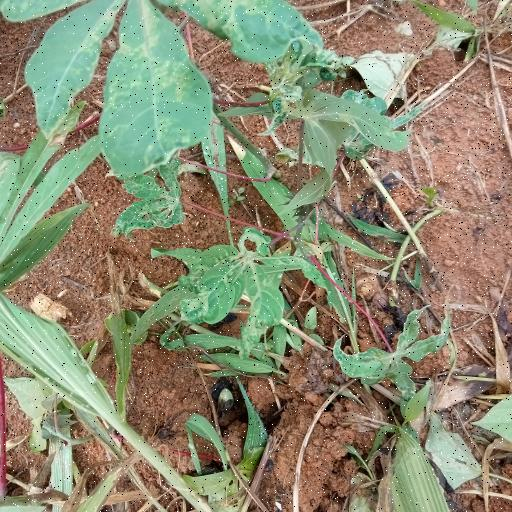Cassava_Mosaic: (78, 2, 324, 158), (178, 230, 306, 354), (336, 314, 448, 394), (117, 156, 187, 239)
